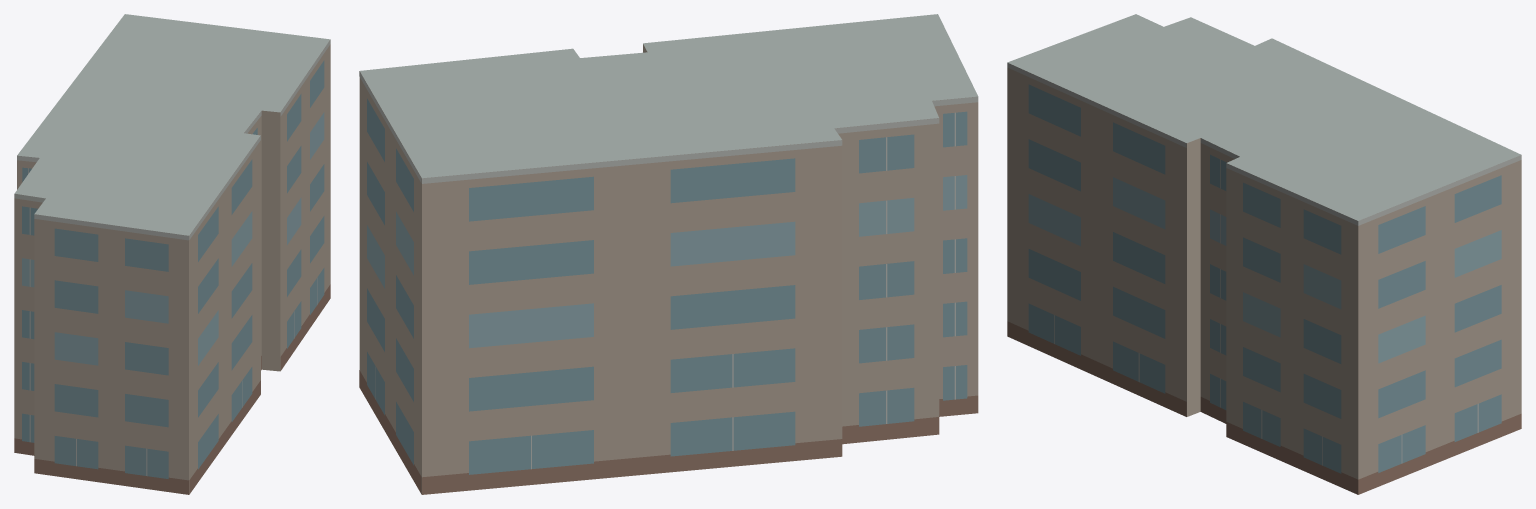
The model's file is survey-upis-32811564.glb.
The picture shows the model from 3 angles, left to right: view 1: azimuth 30°, elevation 25°; view 2: azimuth 150°, elevation 25°; view 3: azimuth 270°, elevation 25°; orthographic projection. The views are drawn at different scales.
Parts seen in each view (by area): view 1: survey-upis-32811564.tmp; view 2: survey-upis-32811564.tmp; view 3: survey-upis-32811564.tmp.
Boxes of the visible parts, x1,y1,x2,y2 form: survey-upis-32811564.tmp: (14, 14, 330, 494); survey-upis-32811564.tmp: (359, 14, 978, 494); survey-upis-32811564.tmp: (1007, 14, 1521, 494).
Bounding box in the file's own units: 22.06 × 13.6 × 23.16.
